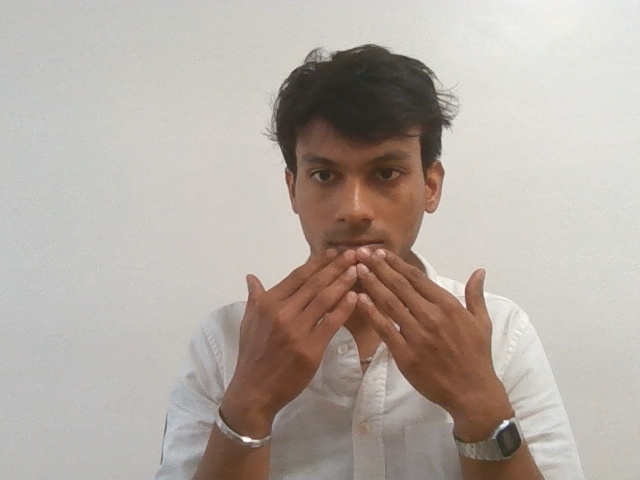ThankYou: (227, 245, 506, 443)
